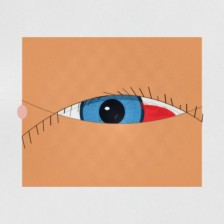hemorrhage_spot: (95, 80, 189, 155)
